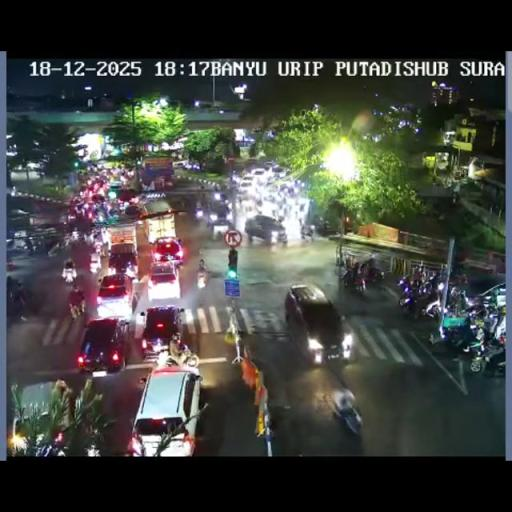Car: (128, 365, 202, 455), (288, 283, 354, 363), (12, 380, 66, 455), (77, 317, 129, 375), (138, 305, 185, 360), (95, 273, 135, 318), (146, 261, 182, 302), (245, 214, 287, 244), (107, 242, 139, 277), (150, 236, 185, 266), (206, 198, 232, 226), (314, 218, 340, 236), (117, 188, 140, 206), (123, 203, 144, 217), (250, 168, 267, 183), (108, 180, 122, 198), (270, 165, 286, 177), (241, 175, 254, 188), (90, 193, 105, 204), (172, 160, 189, 168), (264, 160, 274, 170)
Motorcycle: (463, 328, 504, 374), (398, 279, 440, 320), (259, 402, 292, 450), (332, 397, 362, 434), (80, 424, 107, 455), (6, 286, 30, 320), (463, 298, 490, 322), (358, 262, 384, 286), (276, 179, 303, 201), (450, 287, 467, 316), (341, 264, 357, 290), (68, 296, 86, 319), (450, 270, 468, 288), (42, 237, 60, 254), (196, 266, 208, 290), (300, 224, 314, 242), (62, 267, 76, 284), (62, 232, 76, 249), (93, 238, 104, 258), (106, 204, 120, 219), (131, 290, 140, 312), (194, 204, 204, 221), (66, 210, 78, 224), (26, 242, 36, 256), (282, 204, 292, 218), (96, 211, 106, 224), (274, 213, 285, 224), (254, 198, 264, 210), (298, 216, 304, 230), (298, 202, 305, 214)
